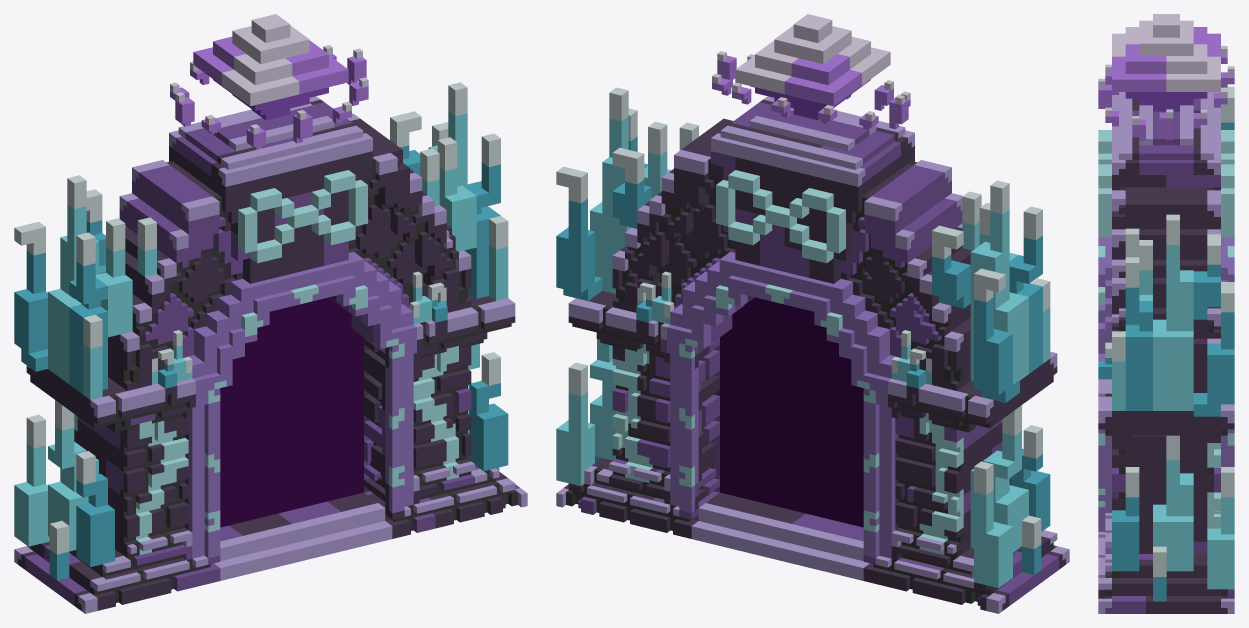
File: endless_rift_gate_roblox.glb
3 renders of one model, left to right at view 1: azimuth 30°, elevation 25°; view 2: azimuth 150°, elevation 25°; view 3: azimuth 270°, elevation 25°, orthographic. The views are drawn at different scales.
Visible parts, largest first — view 1: Gate, Gate_Glow, Gate_Soulstone; view 2: Gate, Gate_Glow, Gate_Soulstone; view 3: Gate, Gate_Glow, Gate_Soulstone.
Part boxes in pixels (x1=…): Gate: x1=14, y1=96, x2=527, y2=613; Gate_Glow: x1=14, y1=82, x2=508, y2=580; Gate_Soulstone: x1=170, y1=14, x2=368, y2=149; Gate: x1=556, y1=96, x2=1069, y2=613; Gate_Glow: x1=556, y1=87, x2=1050, y2=588; Gate_Soulstone: x1=712, y1=14, x2=910, y2=130; Gate: x1=1098, y1=92, x2=1234, y2=613; Gate_Glow: x1=1098, y1=86, x2=1234, y2=601; Gate_Soulstone: x1=1098, y1=14, x2=1234, y2=140.
Bounding box in the file's own units: 5.04 × 5.57 × 1.4.
